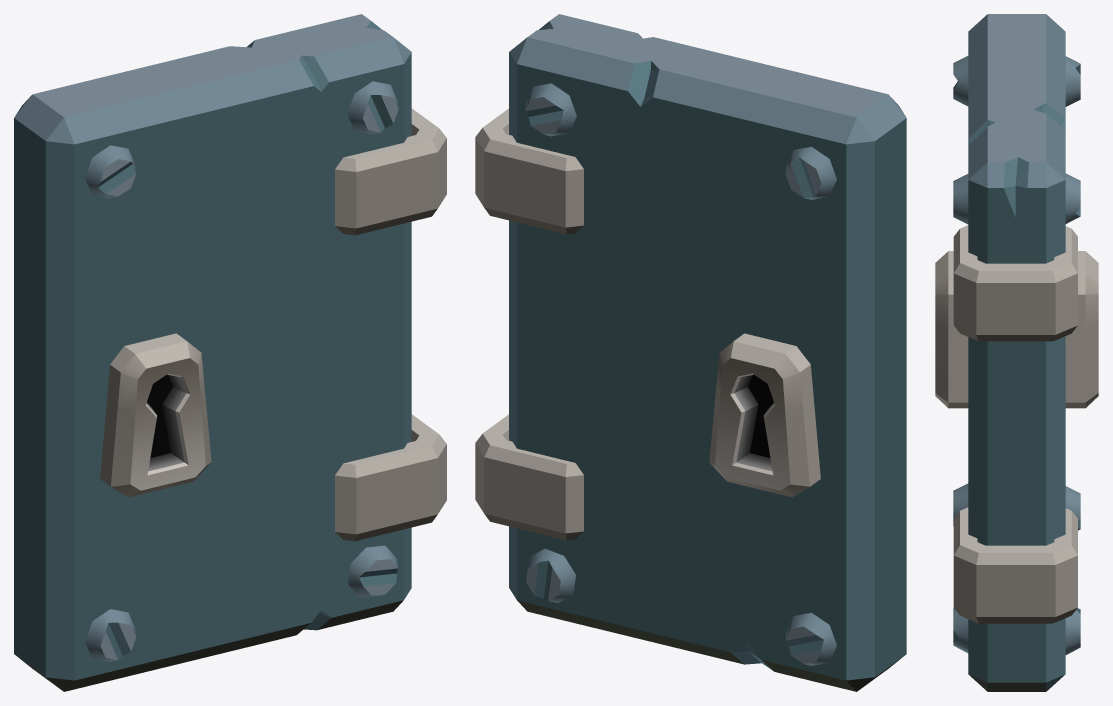
File: m_deco_doorMetal_lock.FBX
3 renders of one model, left to right at view 1: azimuth 30°, elevation 25°; view 2: azimuth 150°, elevation 25°; view 3: azimuth 270°, elevation 25°, orthographic. The views are drawn at different scales.
Visible parts, largest first — view 1: m_deco_doorMetal_lock; view 2: m_deco_doorMetal_lock; view 3: m_deco_doorMetal_lock.
Boxes of the visible parts, box(x1,y1,x2,y2) form: m_deco_doorMetal_lock: box(14, 14, 446, 691); m_deco_doorMetal_lock: box(475, 14, 906, 691); m_deco_doorMetal_lock: box(935, 14, 1098, 691).
Size of the model in its own units: 2.16 by 3 by 0.8371.
